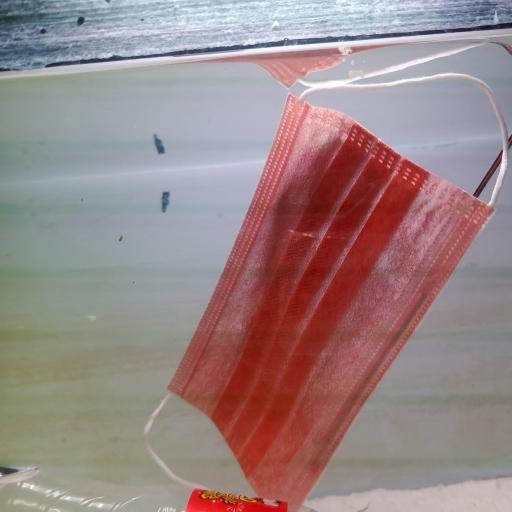mask: (138, 73, 493, 499)
plastic_bottle: (4, 468, 314, 512)
